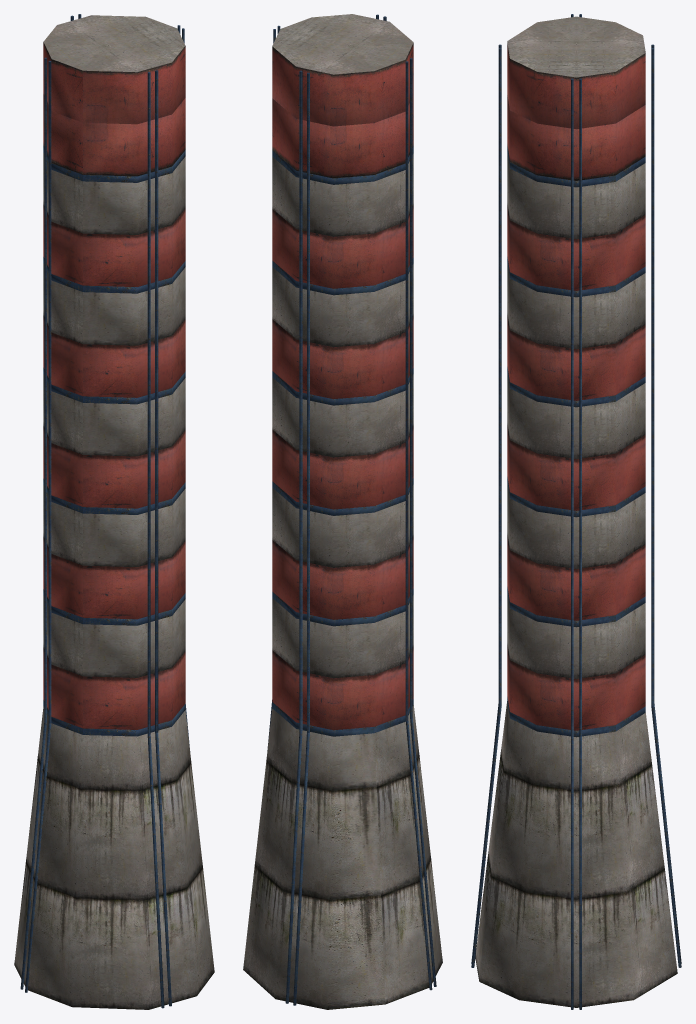
The model's file is Building_Yc01_lod1.glb.
The picture shows the model from 3 angles, left to right: view 1: azimuth 30°, elevation 25°; view 2: azimuth 150°, elevation 25°; view 3: azimuth 270°, elevation 25°; orthographic projection.
Parts seen in each view (by area): view 1: xiutz_yc_01_lod1; view 2: xiutz_yc_01_lod1; view 3: xiutz_yc_01_lod1.
Part boxes in pixels (<box>): xiutz_yc_01_lod1: <box>14,14,214,1009</box>; xiutz_yc_01_lod1: <box>243,14,442,1009</box>; xiutz_yc_01_lod1: <box>471,14,681,1009</box>.
Size of the model in its own units: 14.7 by 70.85 by 14.7.
1 material, 1 textured.
